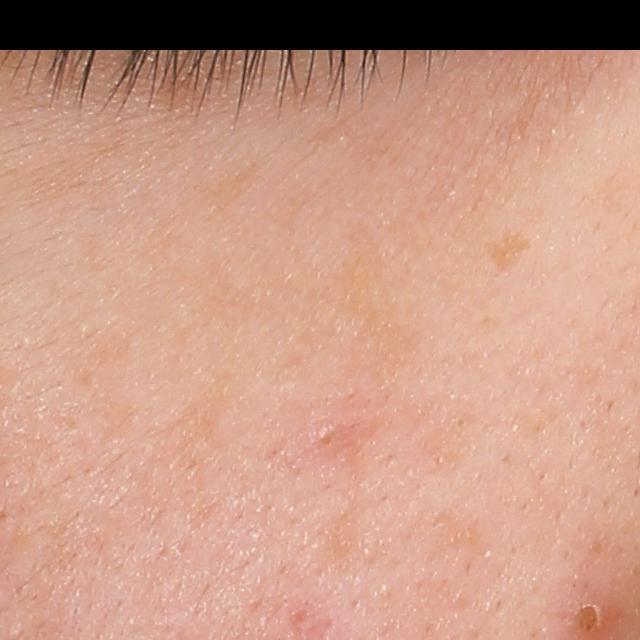melasma: (172, 207, 432, 391), (78, 162, 267, 276), (480, 222, 533, 278)
